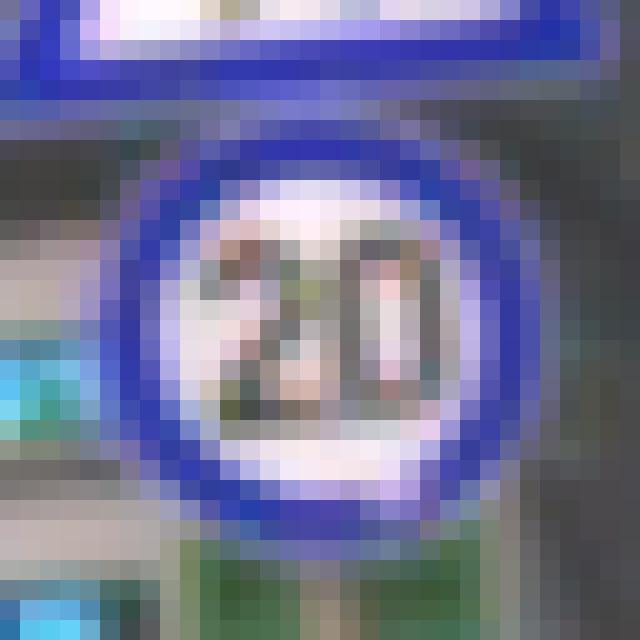SPEED LIMIT 20: (91, 119, 545, 535)
